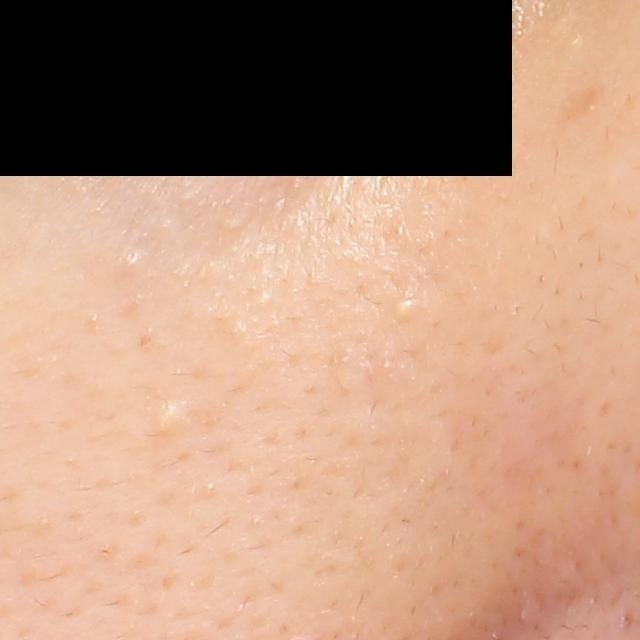comedo: (153, 403, 189, 439), (389, 293, 425, 321), (119, 249, 143, 273)
